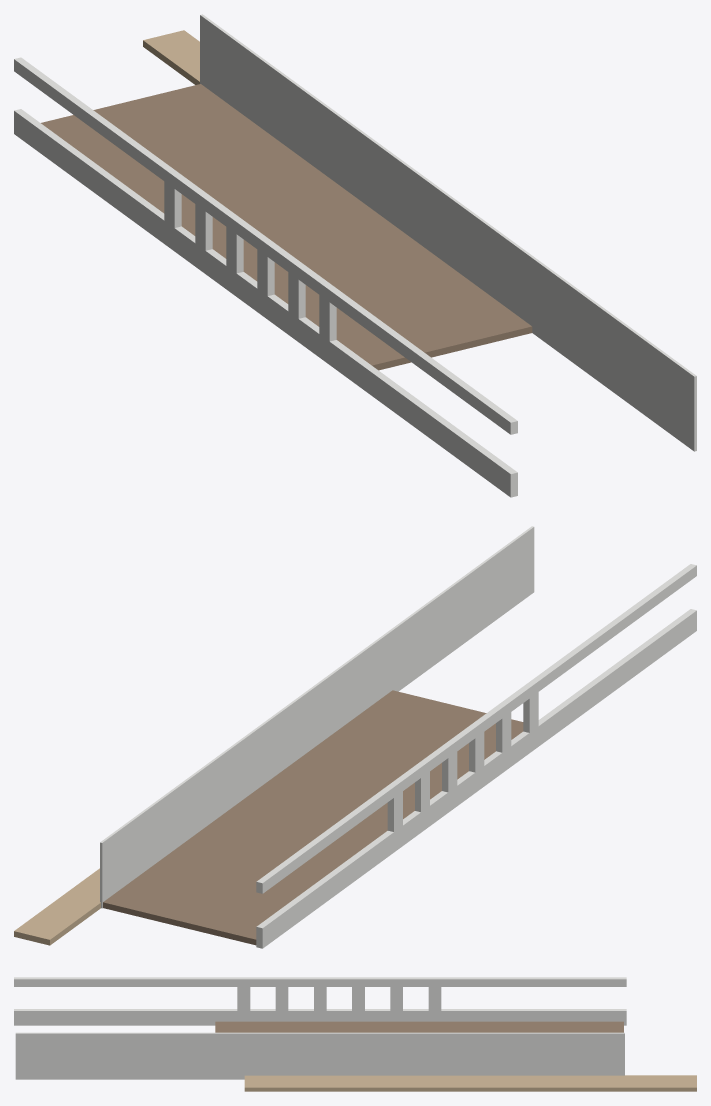
The model's file is SM_Bygg_Helgasetr_P6_V_MS.fbx.
3 views of the same model, one above another, from view 1: azimuth 30°, elevation 25°; view 2: azimuth 150°, elevation 25°; view 3: azimuth 270°, elevation 25° (orthographic). The views are drawn at different scales.
Visible parts, largest first — view 1: SM_Bygg_Helgasetr_P6_V_MS; view 2: SM_Bygg_Helgasetr_P6_V_MS; view 3: SM_Bygg_Helgasetr_P6_V_MS.
Part boxes in pixels (x1=…): SM_Bygg_Helgasetr_P6_V_MS: x1=14, y1=14, x2=696, y2=497; SM_Bygg_Helgasetr_P6_V_MS: x1=14, y1=526, x2=696, y2=948; SM_Bygg_Helgasetr_P6_V_MS: x1=14, y1=977, x2=696, y2=1091.
Size of the model in its own units: 53.61 by 12.7 by 4.
